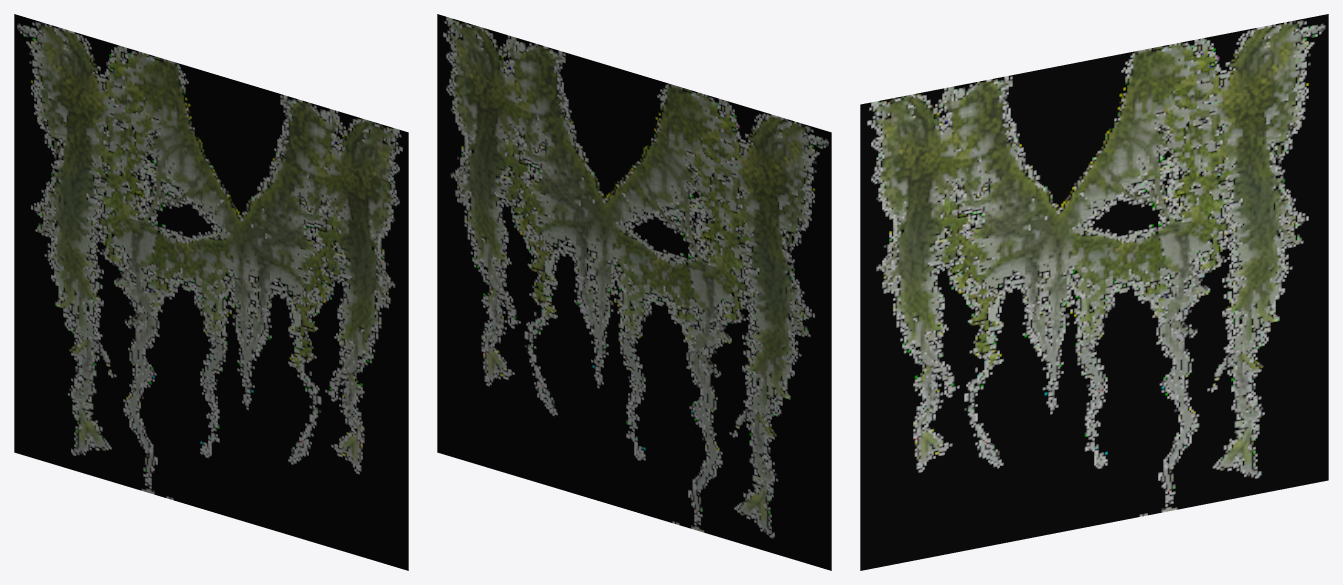
The model's file is MTree_9_Liquen.gltf.
The picture shows the model from 3 angles, left to right: view 1: azimuth 30°, elevation 25°; view 2: azimuth 210°, elevation 25°; view 3: azimuth 270°, elevation 25°; orthographic projection. The views are drawn at different scales.
Parts seen in each view (by area): view 1: MTree_9_Liquen; view 2: MTree_9_Liquen; view 3: MTree_9_Liquen.
Part boxes in pixels (x1,y1,x2,y2): MTree_9_Liquen: (14,14,408,570); MTree_9_Liquen: (437,14,831,570); MTree_9_Liquen: (860,14,1328,570).
Bounding box in the file's own units: 1.66 × 3.98 × 3.62.
1 material, 1 textured.
